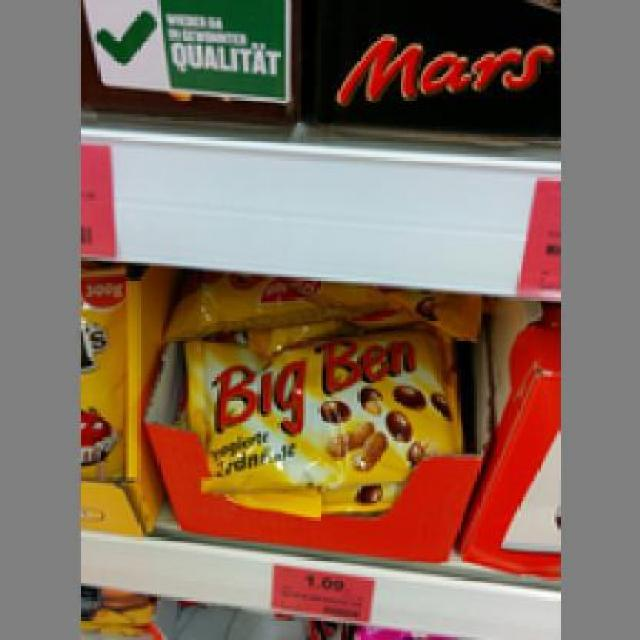Merendine: (180, 336, 454, 492)
